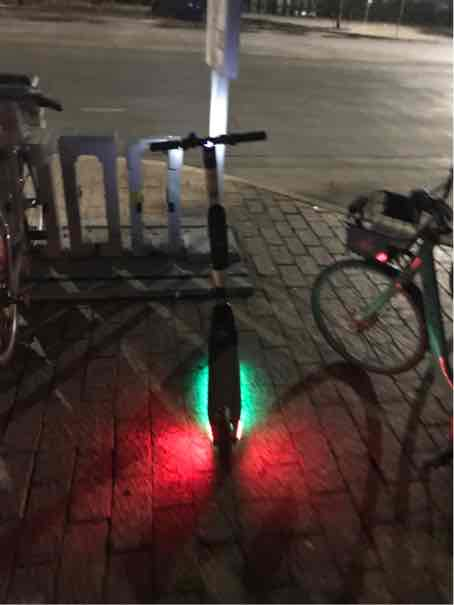scooter: (124, 106, 290, 495)
